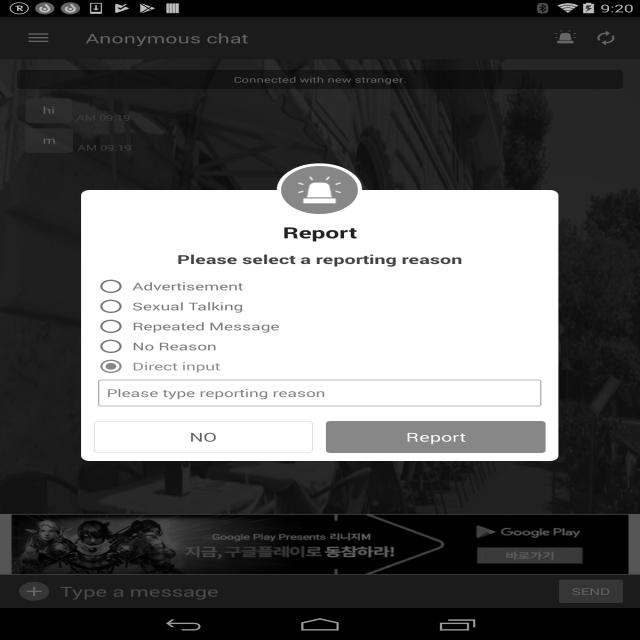Button: (320, 416, 555, 459), (90, 417, 312, 458), (550, 576, 632, 607), (470, 544, 590, 564)
ImageButton: (15, 581, 52, 603), (20, 29, 58, 47), (588, 31, 621, 47), (551, 30, 578, 48)
ImageView: (13, 516, 420, 571)
RadioButton: (97, 296, 128, 314), (95, 356, 126, 373), (97, 334, 126, 352), (94, 274, 123, 292)
TextView: (170, 246, 468, 268), (62, 580, 225, 603), (128, 317, 286, 334), (230, 74, 408, 86), (131, 279, 259, 294), (80, 33, 254, 43), (276, 222, 363, 240), (134, 300, 251, 312), (132, 358, 234, 370)
